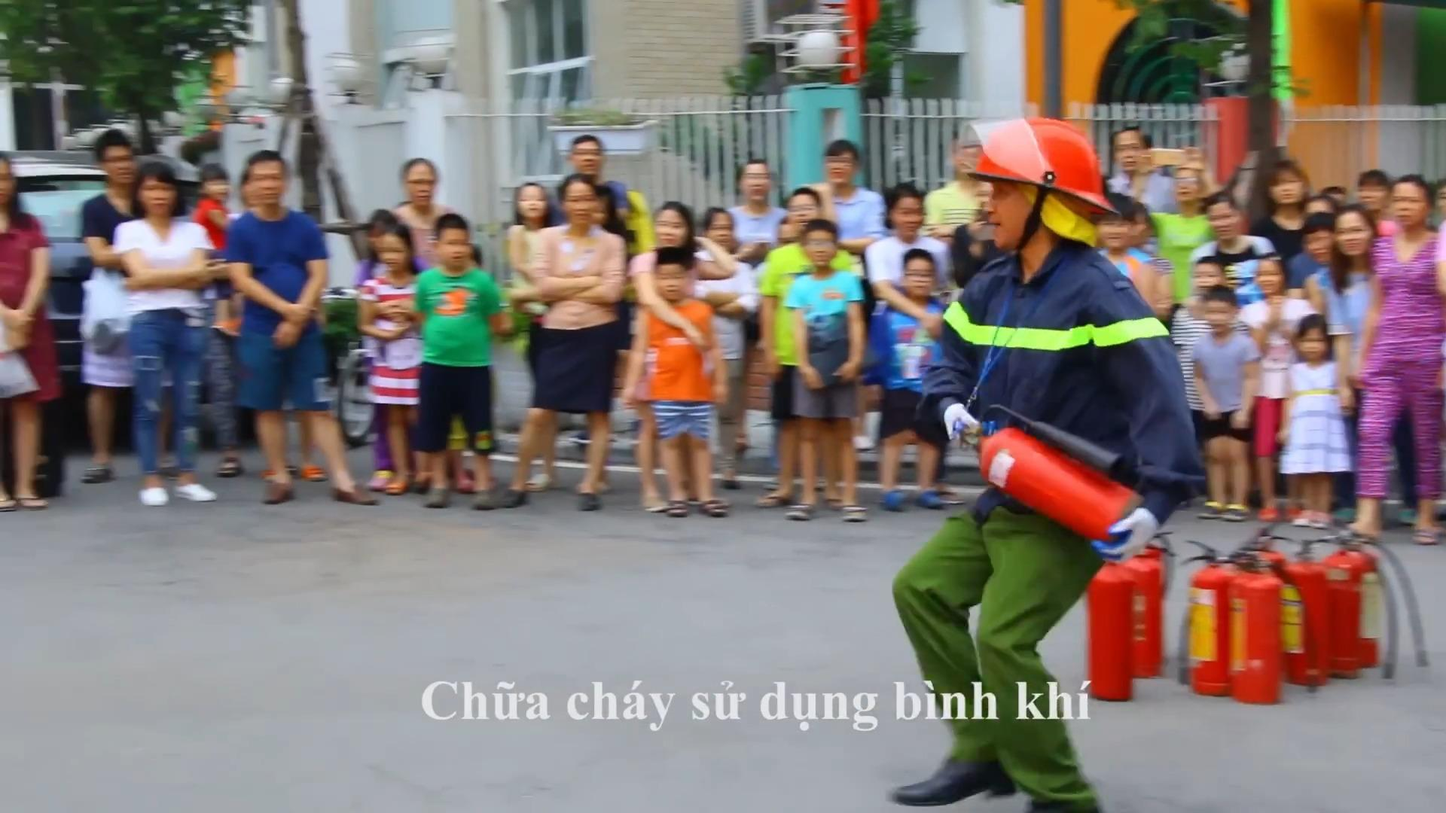FireExtinguisher: (947, 407, 1137, 554), (1326, 535, 1428, 690), (1072, 546, 1144, 709), (1226, 557, 1294, 713), (1175, 535, 1235, 706), (1281, 524, 1335, 700), (1115, 546, 1172, 687)
